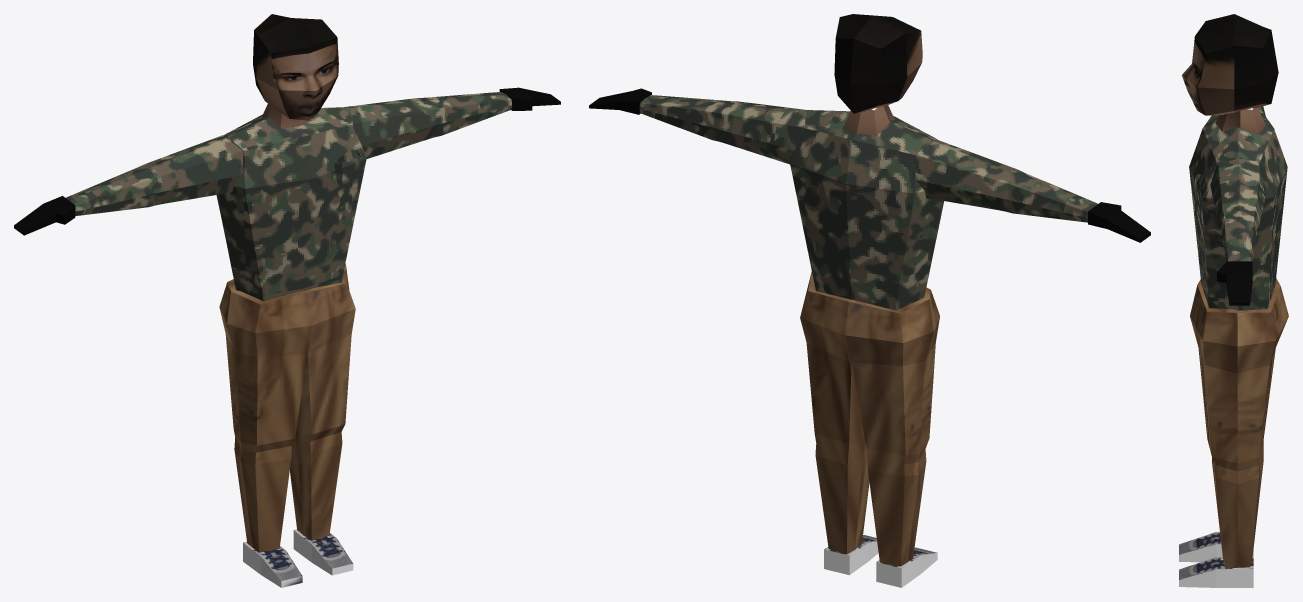
File: Chris.fbx
3 renders of one model, left to right at view 1: azimuth 30°, elevation 25°; view 2: azimuth 150°, elevation 25°; view 3: azimuth 270°, elevation 25°, orthographic. The views are drawn at different scales.
Parts seen in each view (by area): view 1: Legs, Torso, Cube, Head; view 2: Legs, Torso, Cube, Head, Neck; view 3: Legs, Torso, Head, Cube, Neck.
Boxes of the visible parts, <box> form: Legs: <box>219,263,355,587</box>; Torso: <box>216,107,366,301</box>; Cube: <box>14,87,560,235</box>; Head: <box>253,14,338,120</box>; Legs: <box>800,271,939,587</box>; Torso: <box>790,110,944,310</box>; Cube: <box>589,88,1150,242</box>; Head: <box>834,14,922,113</box>; Neck: <box>843,105,894,135</box>; Legs: <box>1179,278,1288,587</box>; Torso: <box>1189,107,1287,310</box>; Head: <box>1182,14,1278,115</box>; Cube: <box>1210,106,1268,305</box>; Neck: <box>1215,107,1265,133</box>.
Size of the model in its own units: 2.03 by 1.95 by 0.3549.
5 materials, 4 textured.
